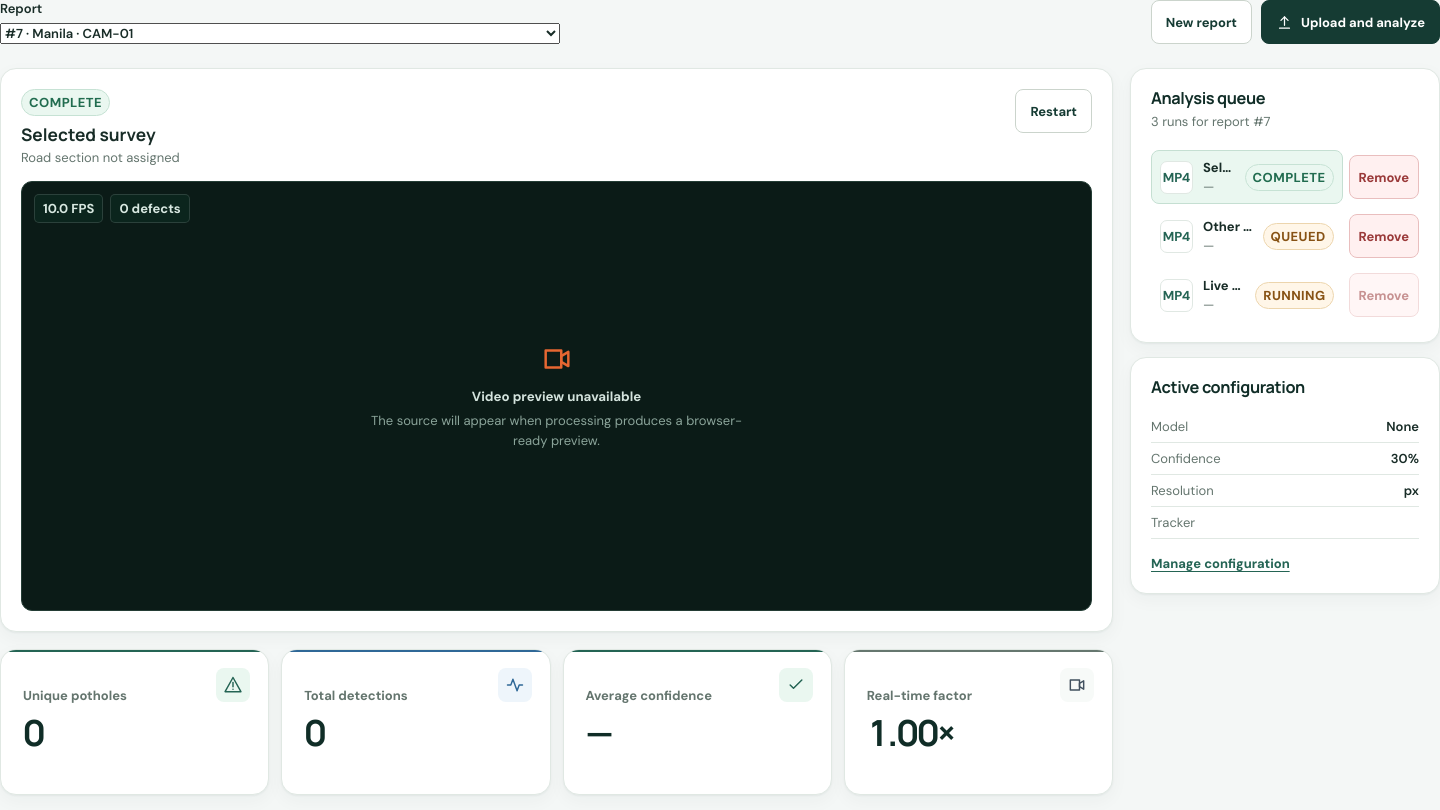
Test case: report-specific analysis › keeps another report's stale results hidden while switching reports
Select "#8 · Cavite · CAM-02" in the dropdown labelled "Report". click: (280, 34)
box: [0,23,560,44]
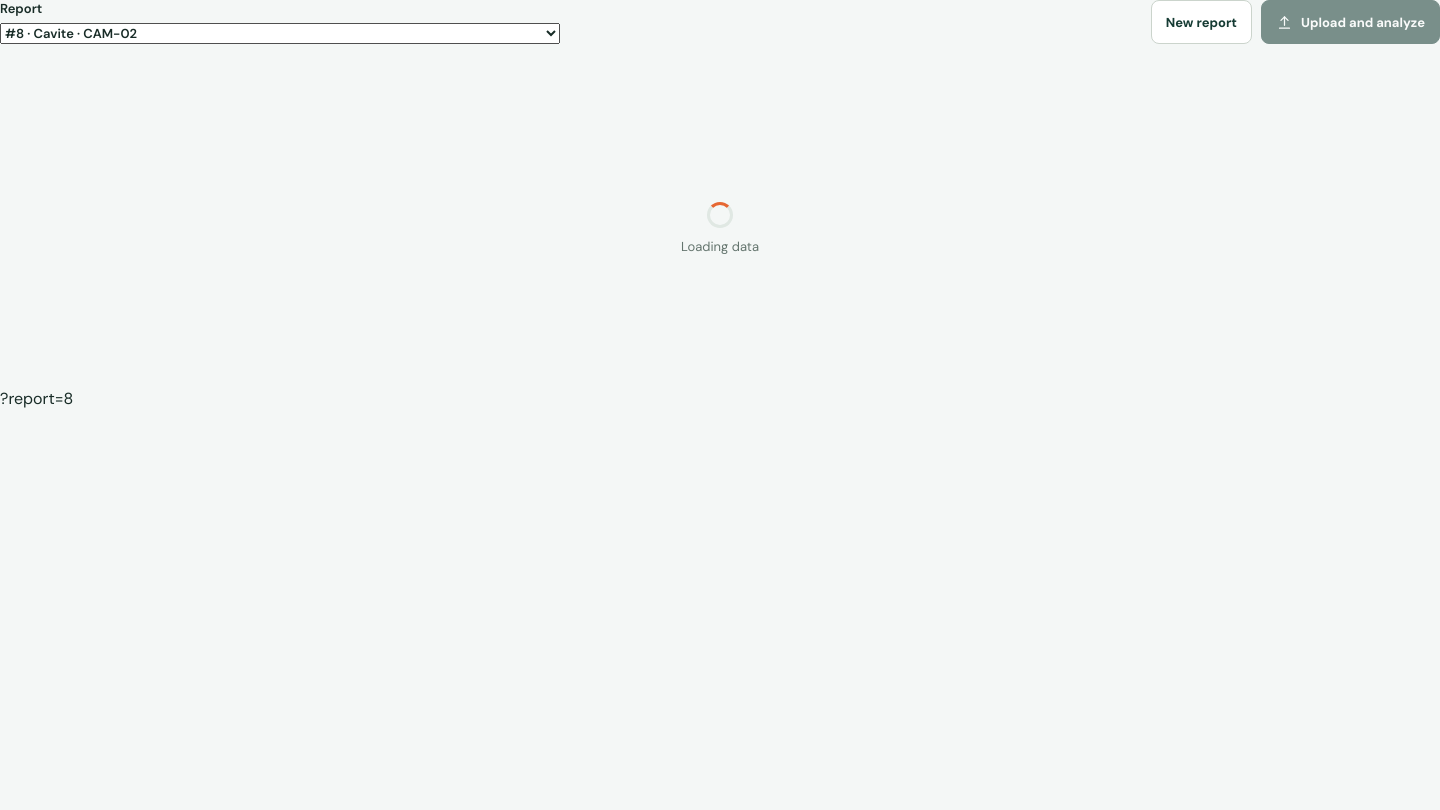
expect the text with test id "current-search" reads "?report=8": met, box [0,388,73,409]
expect the heading "Selected survey" is gone: met
expect the button "Upload and analyze" is disabled: met, box [1261,0,1439,44]
